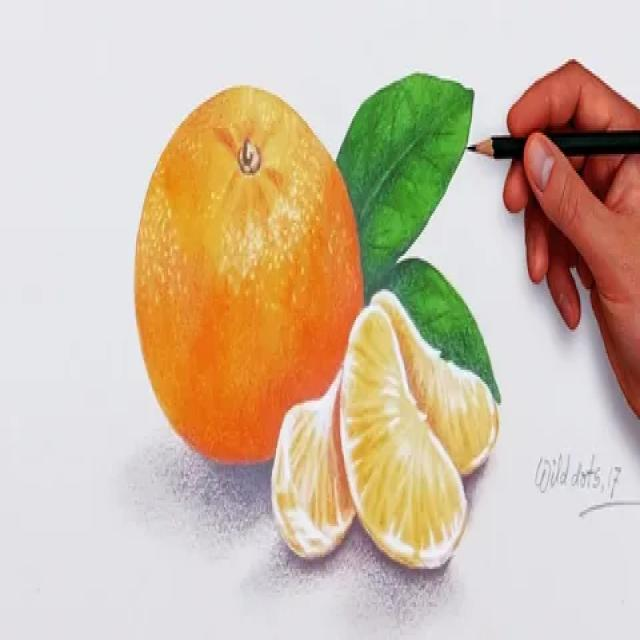orange: (128, 77, 368, 474)
